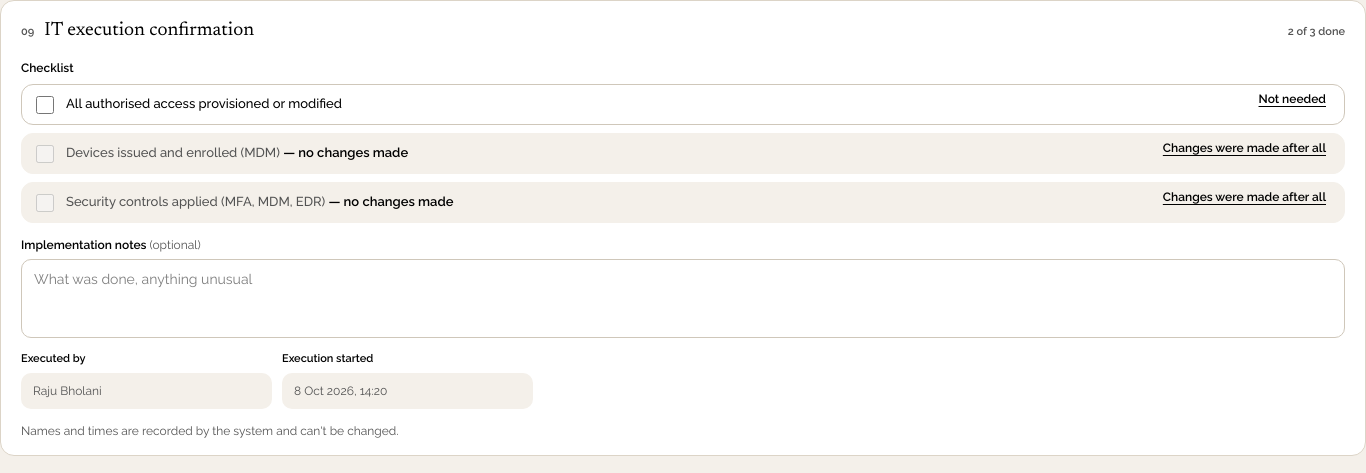
Test: ExecutionSection › an access change pre-filled with No changes made can be undone (2026-10-14)
This screenshot has width=1366, height=473.
Expected: the text "2 of 3 done" is shown, [1288,25,1345,40]
Expected: the text "— no changes made" is shown 2 times, [280,144,408,160]; [325,194,453,208]
Click the button named "Devices issued and enrolled (MDM): changes were made after all": (1244, 148) [1159,136,1330,160]
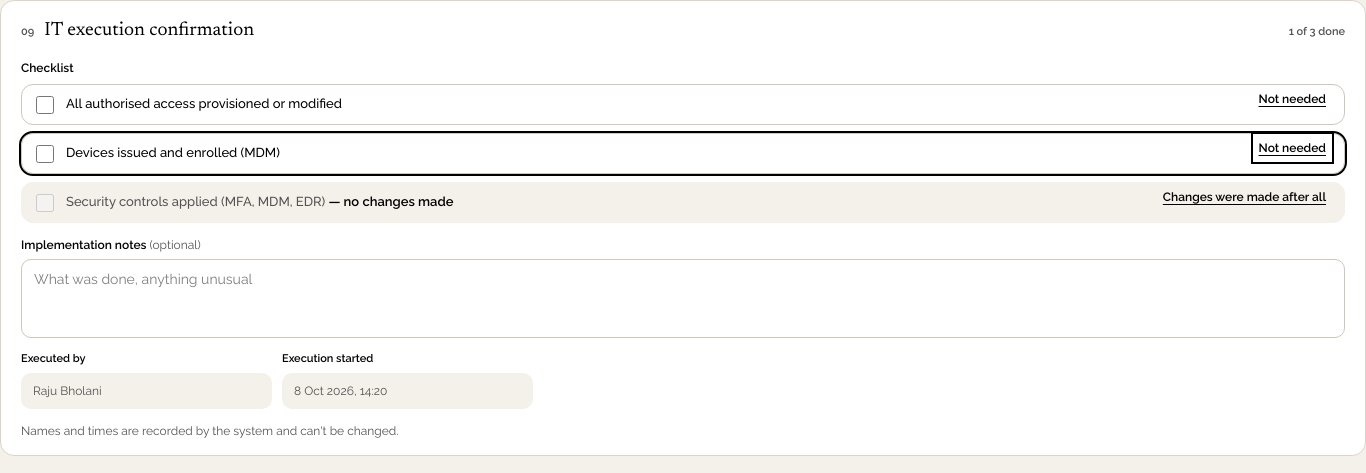
Now the text "1 of 3 done" is shown, box [1289,25,1345,40]
